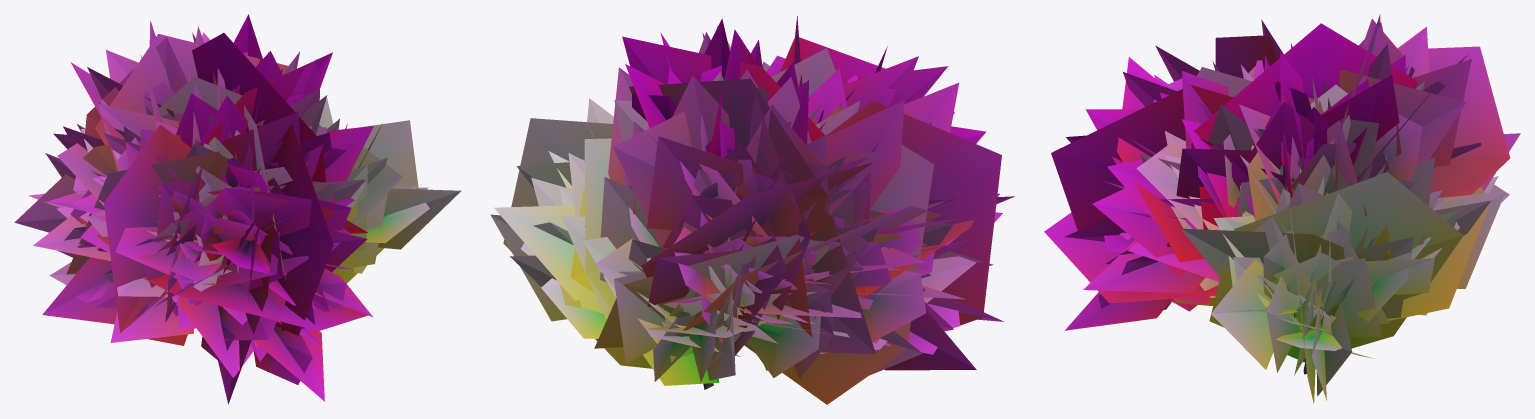
The model's file is filber_tree_5.FBX.
3 renders of one model, left to right at view 1: azimuth 30°, elevation 25°; view 2: azimuth 150°, elevation 25°; view 3: azimuth 270°, elevation 25°, orthographic. The views are drawn at different scales.
Parts seen in each view (by area): view 1: filbert_leaves_lod_0, filbert_leaves_shadow; view 2: filbert_leaves_lod_0, filbert_leaves_shadow; view 3: filbert_leaves_lod_0, filbert_leaves_shadow.
Boxes of the visible parts, x1,y1,x2,y2 form: filbert_leaves_lod_0: (28,14,461,401); filbert_leaves_shadow: (14,32,418,404); filbert_leaves_lod_0: (490,16,1014,382); filbert_leaves_shadow: (503,29,1001,404); filbert_leaves_lod_0: (1064,19,1520,400); filbert_leaves_shadow: (1044,14,1510,403).
Size of what is drawn, in the model's own units: 6.48 by 4.76 by 6.15.
